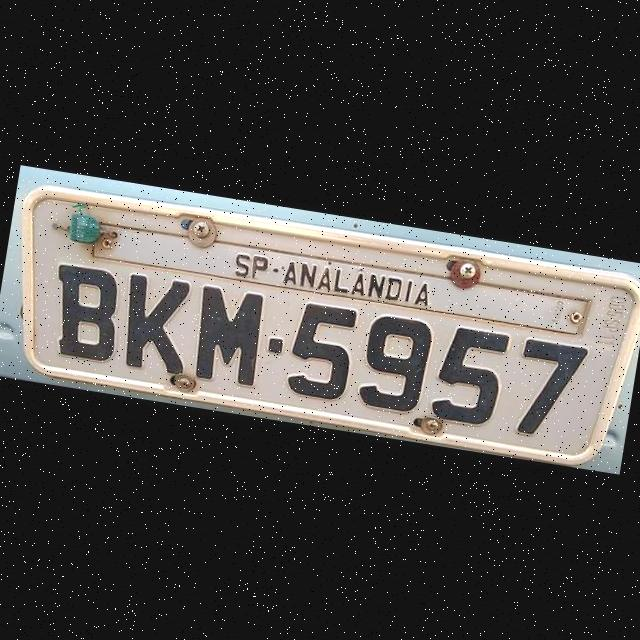Caractere: (112, 270, 198, 379), (508, 333, 590, 446), (186, 280, 268, 390), (44, 260, 128, 367), (428, 320, 511, 428), (356, 310, 436, 419), (284, 298, 362, 406)
Placa: (0, 180, 638, 470)
